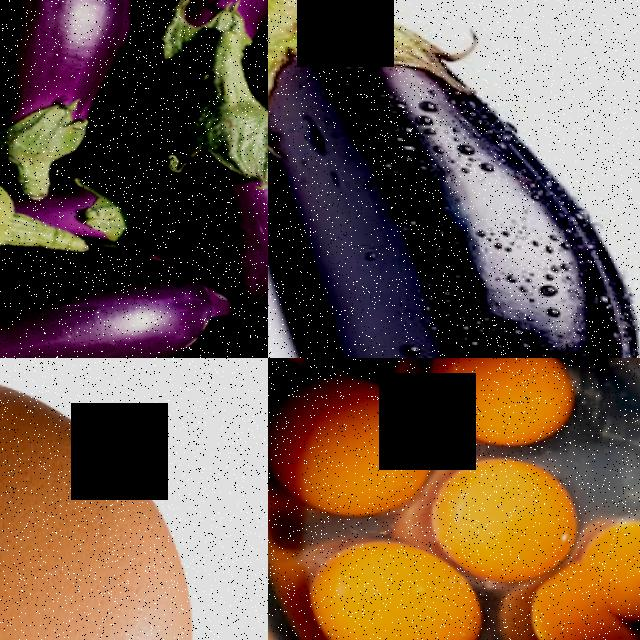egg_: (0, 364, 215, 640), (421, 453, 576, 579), (293, 538, 474, 640), (421, 358, 581, 444), (268, 461, 307, 517)
eggplant: (268, 0, 640, 358), (0, 239, 218, 358), (158, 98, 268, 310), (0, 0, 141, 163)
